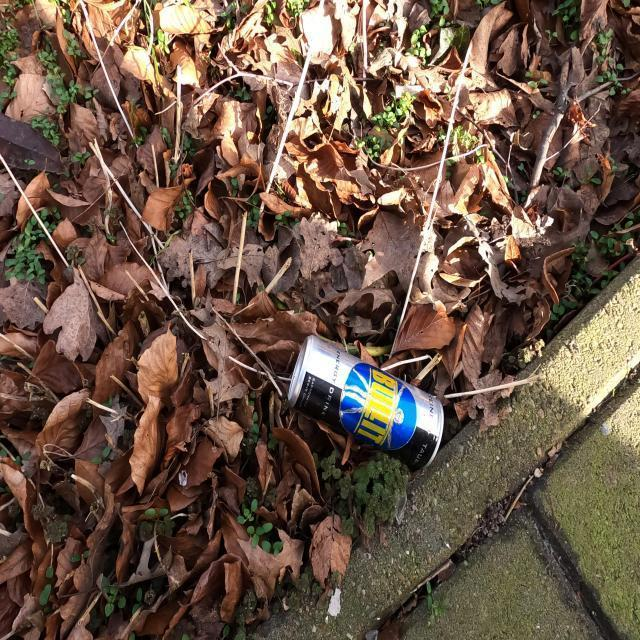Can-Metal: (286, 333, 444, 471)
